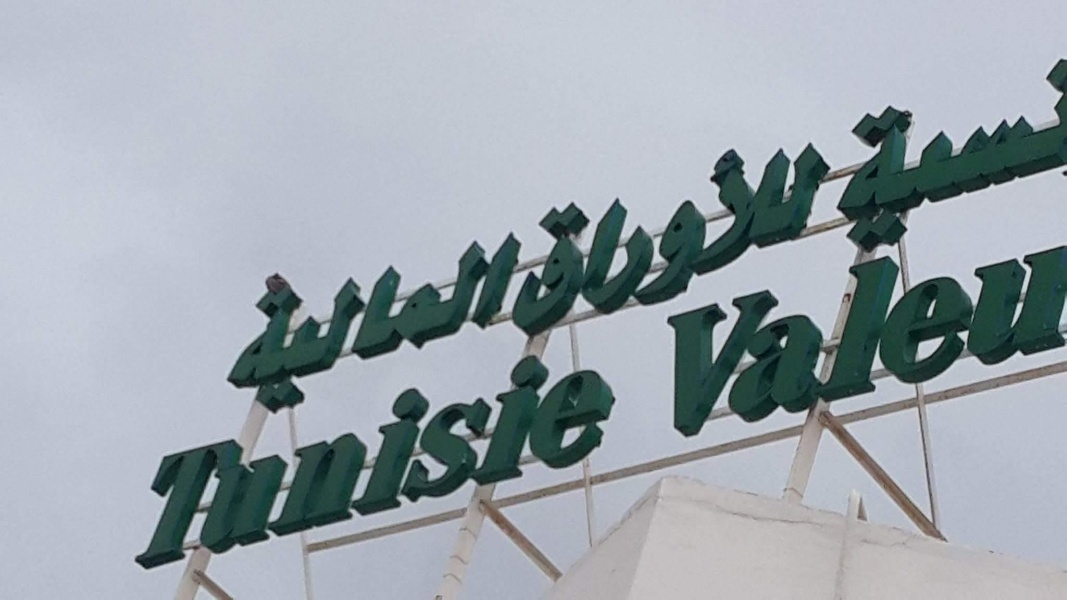text: (177, 331, 192, 577), (193, 331, 208, 577), (209, 331, 224, 577), (225, 331, 240, 577), (241, 331, 256, 577), (257, 331, 272, 577), (273, 331, 288, 577), (289, 331, 304, 577), (305, 331, 320, 577), (321, 331, 336, 577), (337, 331, 352, 577), (353, 331, 368, 577), (369, 331, 384, 577), (385, 331, 400, 577), (401, 331, 416, 577), (417, 331, 432, 577), (433, 331, 448, 577), (449, 331, 464, 577), (465, 331, 480, 577), (481, 331, 496, 577), (497, 331, 512, 577), (513, 331, 528, 577), (529, 331, 544, 577), (545, 331, 560, 577), (561, 331, 576, 577), (577, 331, 592, 577), (593, 331, 608, 577), (609, 331, 624, 577), (673, 206, 688, 443), (689, 206, 704, 443), (705, 206, 720, 443), (721, 206, 736, 443), (737, 206, 752, 443), (753, 206, 768, 443), (769, 206, 784, 443), (785, 206, 800, 443), (801, 206, 816, 443), (817, 206, 832, 443), (833, 206, 848, 443), (849, 206, 864, 443), (865, 206, 880, 443), (881, 206, 896, 443), (897, 206, 912, 443), (913, 206, 928, 443), (929, 206, 944, 443), (945, 206, 960, 443), (961, 206, 976, 443), (977, 206, 992, 443), (993, 206, 1008, 443), (1009, 206, 1024, 443), (1025, 206, 1040, 443), (1041, 206, 1056, 443), (545, 118, 560, 347), (561, 118, 576, 347), (577, 118, 592, 347), (593, 118, 608, 347), (609, 118, 624, 347), (625, 118, 640, 347), (641, 118, 656, 347), (657, 118, 672, 347), (673, 118, 688, 347), (689, 118, 704, 347), (705, 118, 720, 347), (721, 118, 736, 347), (737, 118, 752, 347), (753, 118, 768, 347), (769, 118, 784, 347), (785, 118, 800, 347), (801, 118, 816, 347), (817, 118, 832, 347), (530, 118, 544, 347), (257, 220, 272, 429), (273, 220, 288, 429), (289, 220, 304, 429), (305, 220, 320, 429), (321, 220, 336, 429), (337, 220, 352, 429), (353, 220, 368, 429), (369, 220, 384, 429), (385, 220, 400, 429), (401, 220, 416, 429), (417, 220, 432, 429), (433, 220, 448, 429), (449, 220, 464, 429), (465, 220, 480, 429), (481, 220, 496, 429), (497, 220, 512, 429), (513, 220, 528, 429), (849, 53, 864, 257), (865, 53, 880, 257), (881, 53, 896, 257), (897, 53, 912, 257), (913, 53, 928, 257), (929, 53, 944, 257), (945, 53, 960, 257), (961, 53, 976, 257), (977, 53, 992, 257), (993, 53, 1008, 257), (1009, 53, 1024, 257), (1025, 53, 1040, 257), (1041, 53, 1056, 257), (242, 220, 256, 429), (661, 206, 672, 443), (166, 331, 176, 577), (1057, 206, 1066, 443), (1057, 53, 1067, 257), (833, 118, 838, 347), (843, 53, 848, 257), (625, 331, 627, 577), (529, 220, 530, 429)
